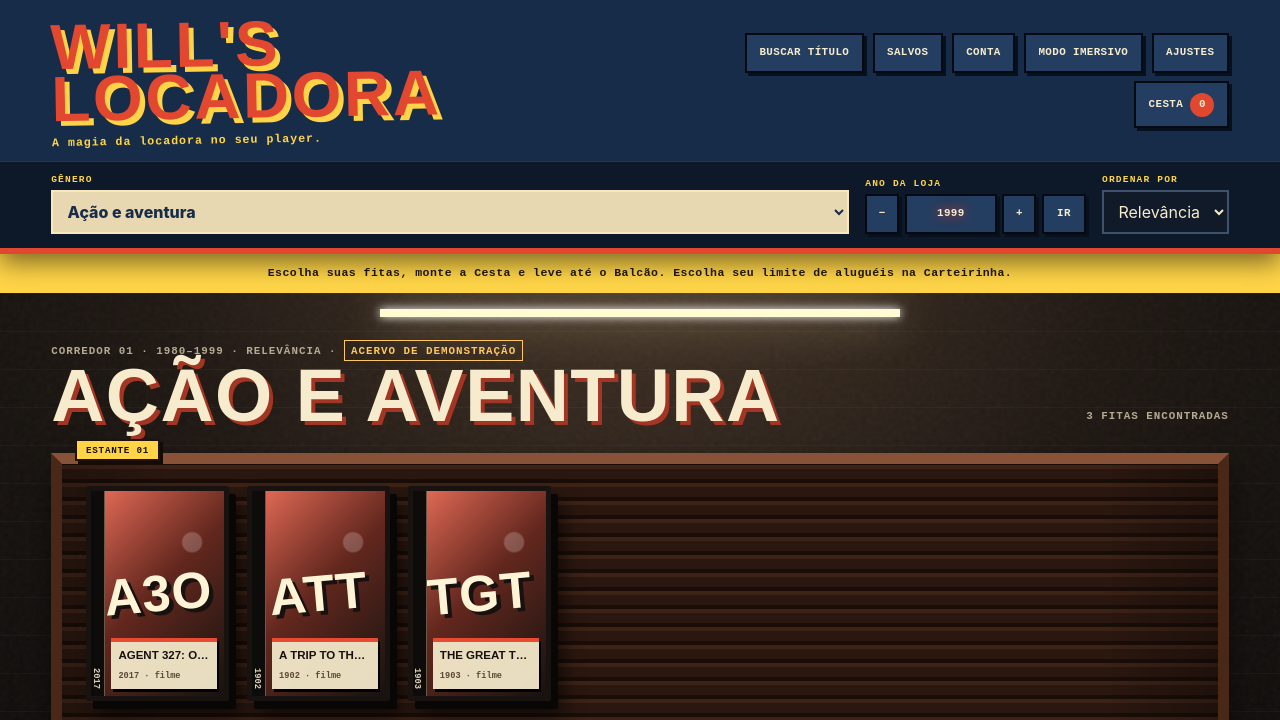
exclusive immersive store › returns to usable 2D browsing when the scene fails
Expected: the button with aria-label "Inspecionar Agent 327" is shown, [86,486,229,701]
Click the button "Modo imersivo". click: (1083, 53)
box: [1024,33,1143,73]
(page scrolled)
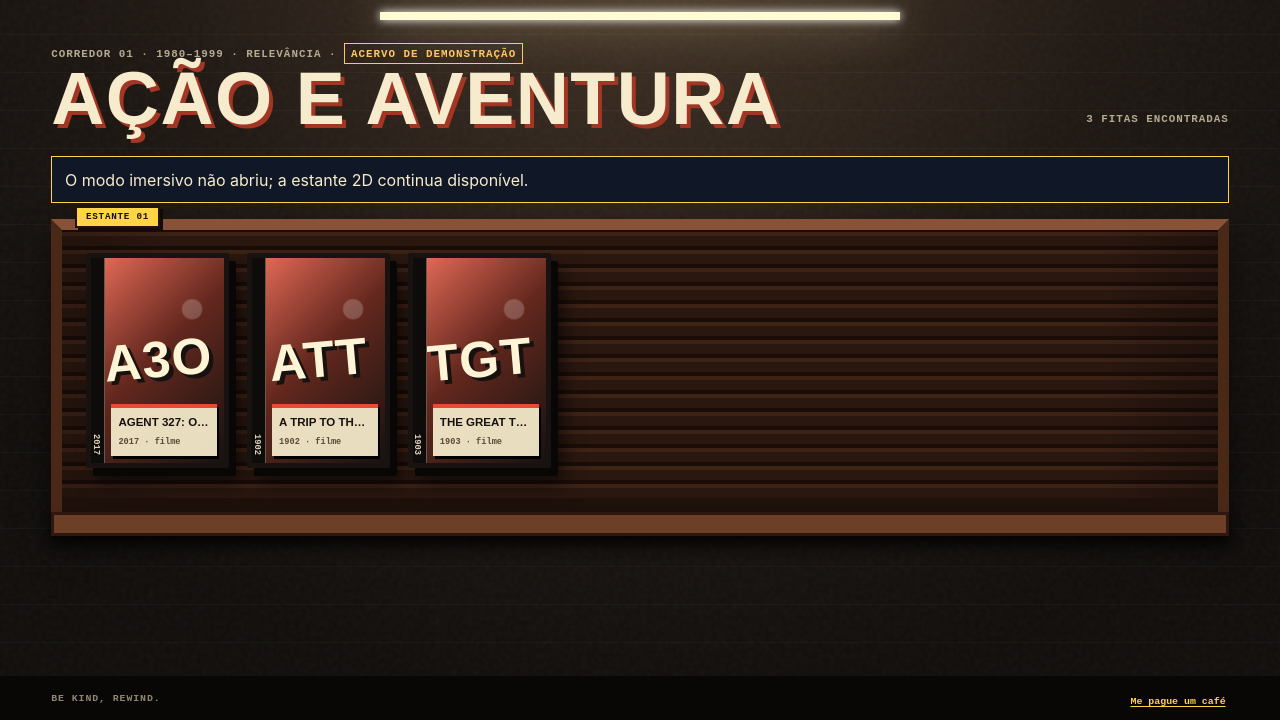
Expected: the button with aria-label "Inspecionar Agent 327" is shown, [86,253,229,468]
Expected: the text "O modo imersivo não abriu; a estante 2D continua disponível." is shown, [51,156,1229,203]
